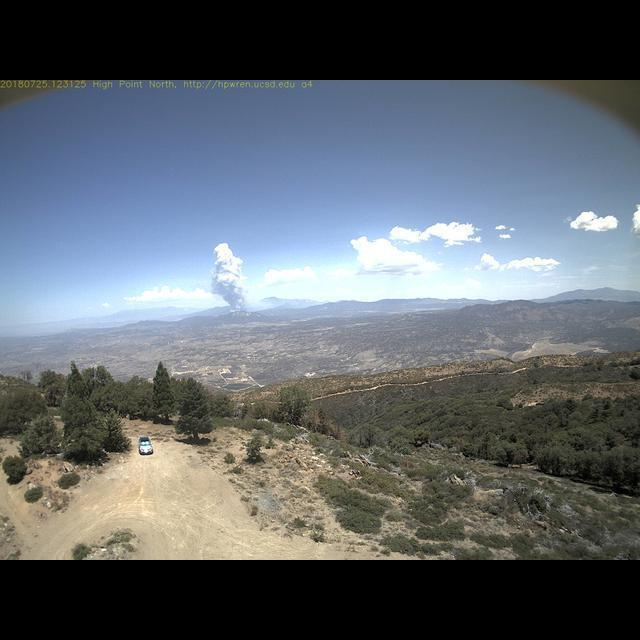Smoke: (206, 237, 256, 318)
